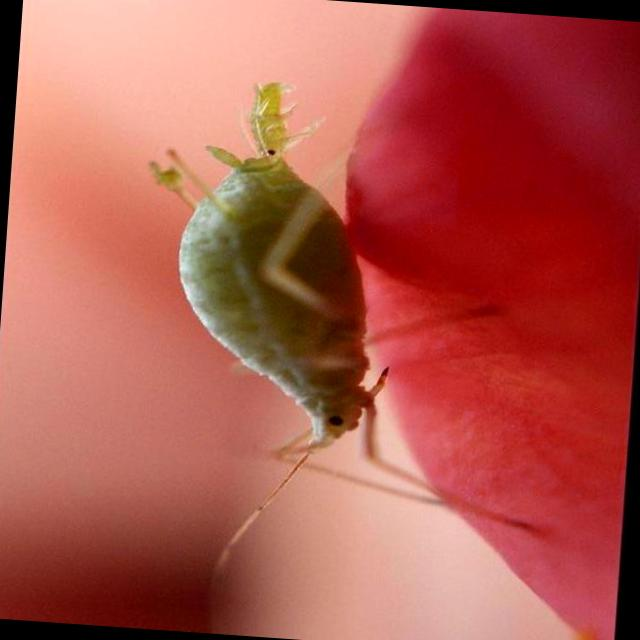aphid: (86, 54, 566, 578)
